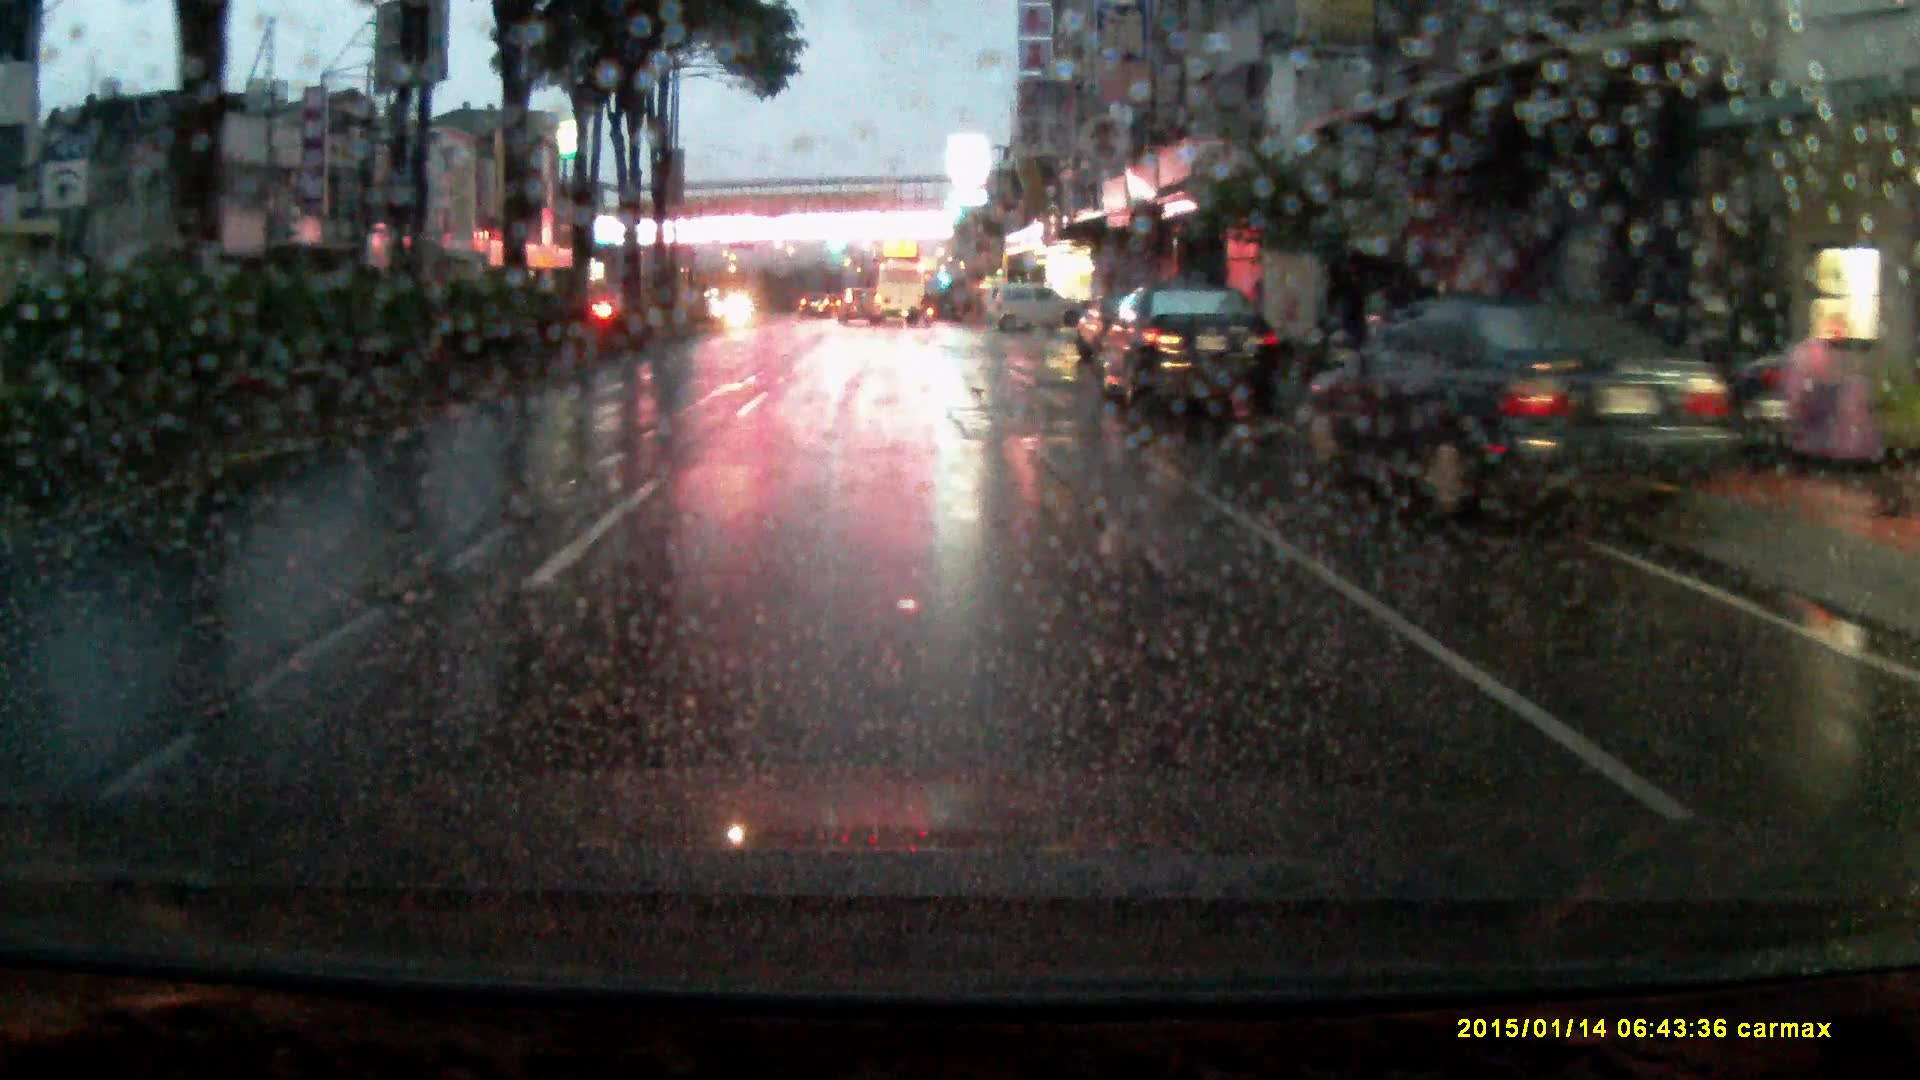vehicle: (1329, 305, 1749, 568), (1098, 286, 1280, 436), (858, 262, 928, 324), (996, 286, 1083, 334), (1075, 295, 1127, 368), (836, 295, 885, 338), (799, 298, 833, 328)
